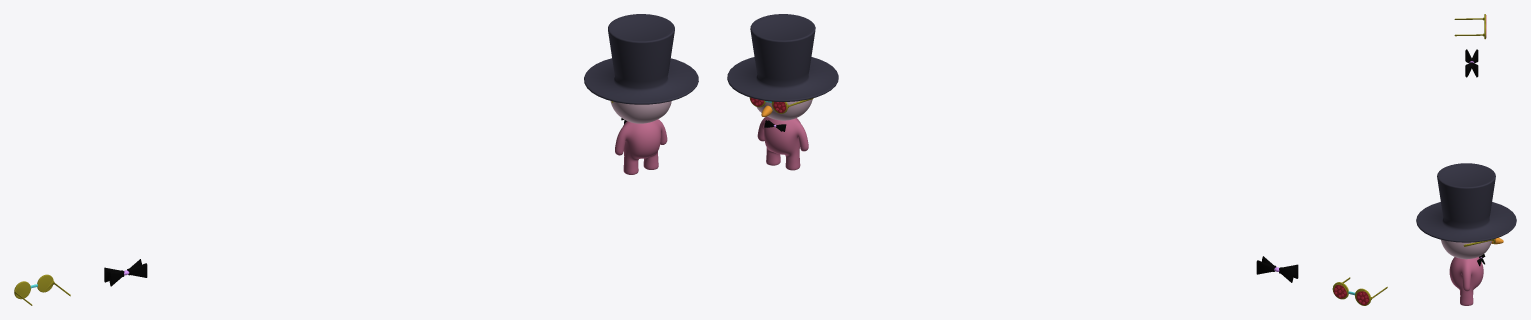
File: char_with_skin1.fbx
3 renders of one model, left to right at view 1: azimuth 30°, elevation 25°; view 2: azimuth 150°, elevation 25°; view 3: azimuth 270°, elevation 25°, orthographic. The views are drawn at different scales.
Parts seen in each view (by area): view 1: hat, new body, new head, Cylinder.001; view 2: hat, new body, new head; view 3: hat, new body, new head, Cylinder.001, Cube.004, Cube.006, glasses.
Boxes of the visible parts, x1=… form: hat: x1=584, y1=14, x2=698, y2=104; new body: x1=615, y1=119, x2=667, y2=174; new head: x1=610, y1=101, x2=671, y2=123; Cylinder.001: x1=14, y1=274, x2=70, y2=305; hat: x1=727, y1=14, x2=838, y2=101; new body: x1=757, y1=116, x2=808, y2=170; new head: x1=756, y1=99, x2=812, y2=120; hat: x1=1416, y1=163, x2=1516, y2=242; new body: x1=1449, y1=257, x2=1483, y2=305; new head: x1=1441, y1=239, x2=1491, y2=259; Cylinder.001: x1=1454, y1=14, x2=1485, y2=39; Cube.004: x1=1465, y1=62, x2=1478, y2=77; Cube.006: x1=1465, y1=49, x2=1478, y2=63; glasses: x1=1463, y1=238, x2=1495, y2=246.
Size of the model in its own units: 2104 by 429 by 315.
